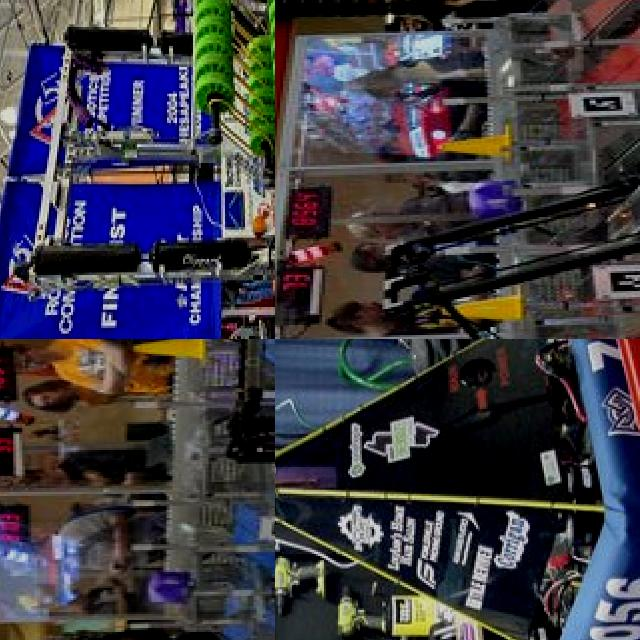FRC-Robots: (275, 339, 640, 640), (2, 0, 275, 339), (379, 34, 640, 339), (54, 339, 275, 535)
